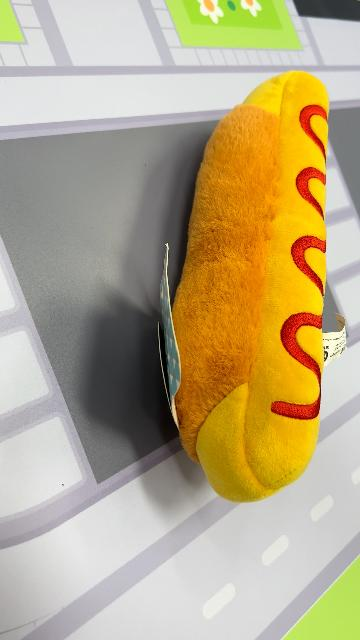hotdog: (167, 70, 333, 506)
